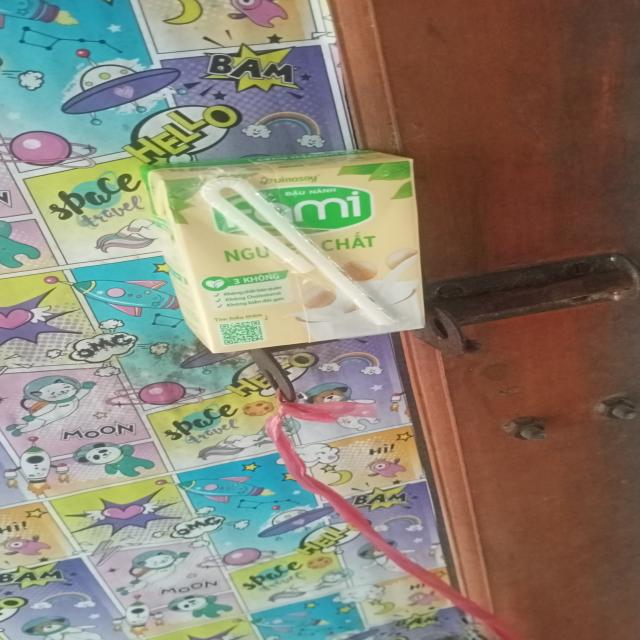Fami: (151, 146, 429, 354)
